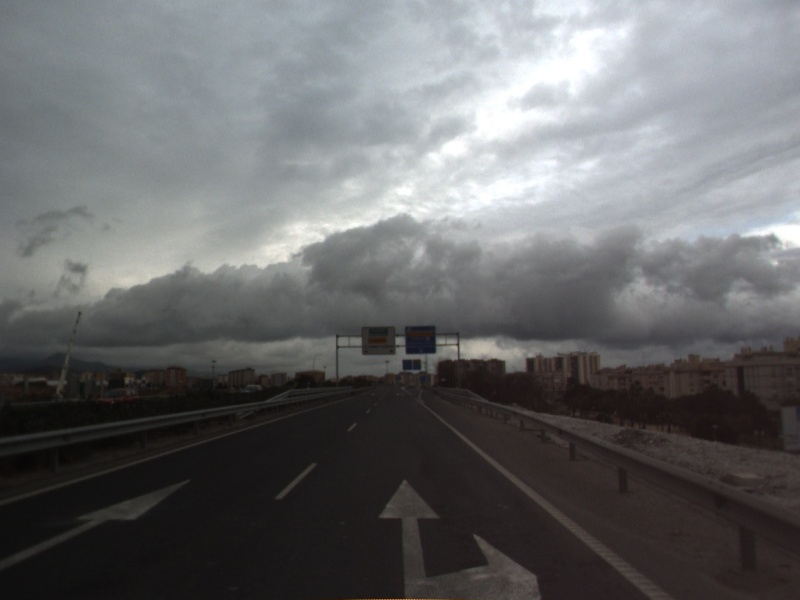STRAIGHT: (1, 474, 196, 571)
STRAIGHT_RIGHT: (375, 474, 543, 600)
